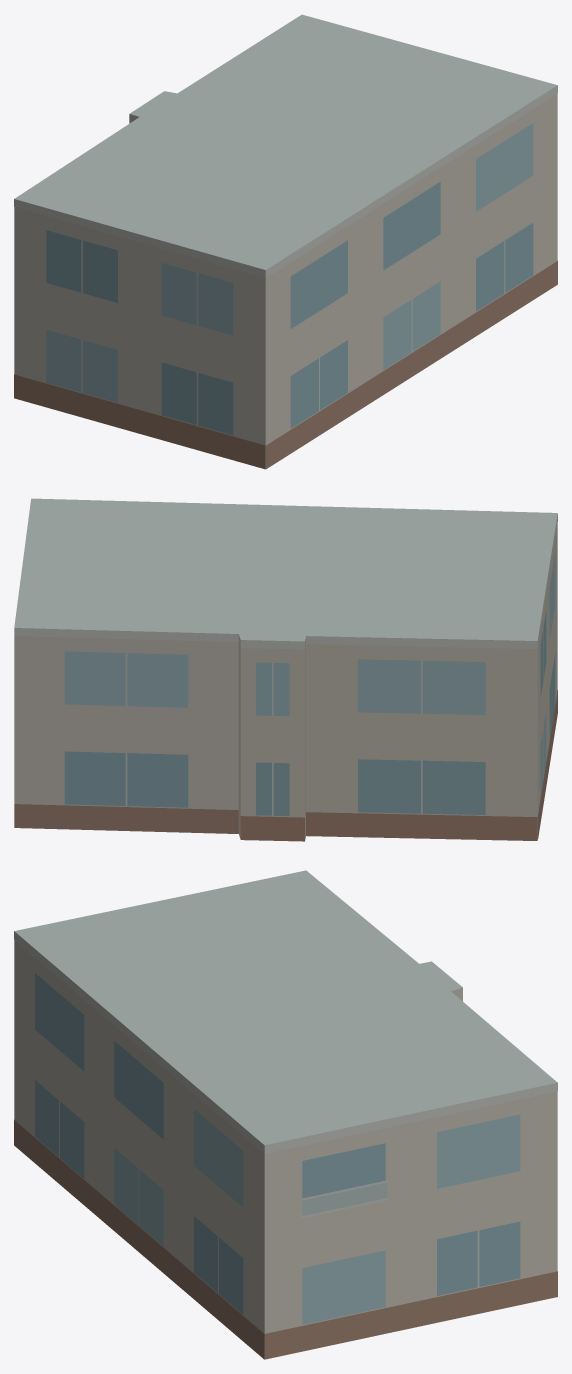
The model's file is survey-upis-32747984.glb.
3 renders of one model, top to bottom at view 1: azimuth 30°, elevation 25°; view 2: azimuth 150°, elevation 25°; view 3: azimuth 270°, elevation 25°, orthographic. The views are drawn at different scales.
Visible parts, largest first — view 1: survey-upis-32747984.tmp; view 2: survey-upis-32747984.tmp; view 3: survey-upis-32747984.tmp.
Part boxes in pixels (x1,y1,x2,y2): survey-upis-32747984.tmp: (14, 14, 557, 469); survey-upis-32747984.tmp: (14, 498, 557, 841); survey-upis-32747984.tmp: (14, 870, 557, 1359).
Bounding box in the file's own units: 16.8 × 6.1 × 14.04.
